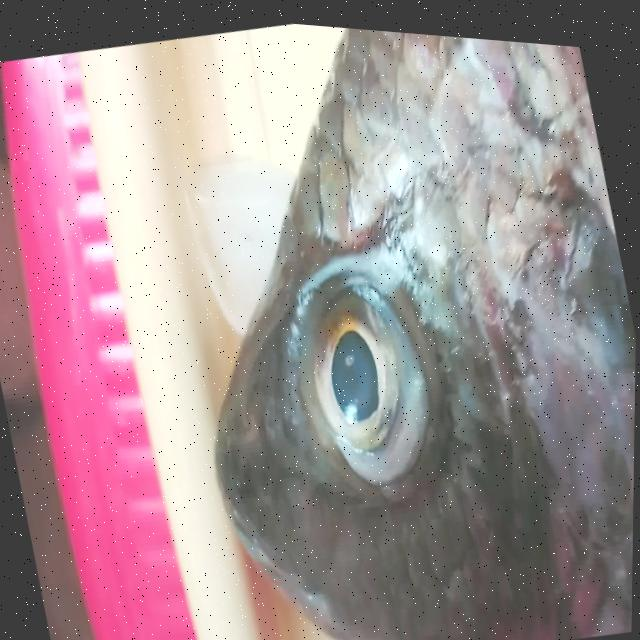Fresh: (233, 181, 486, 524)
